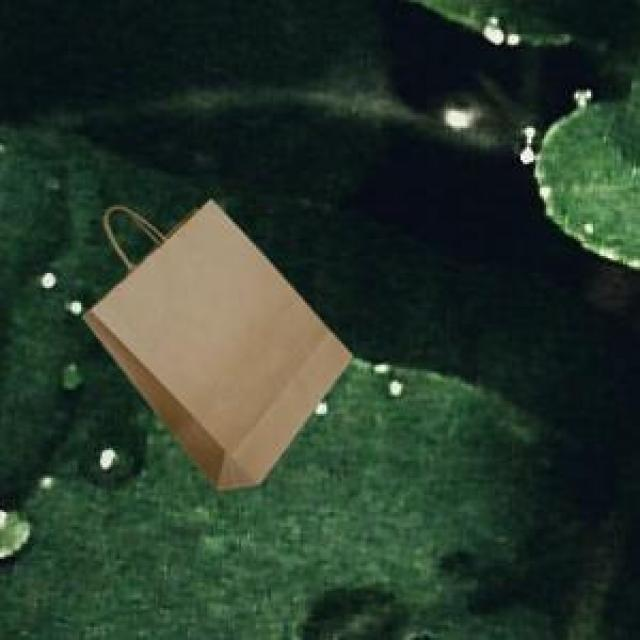Paper -Biodegradable-: (80, 198, 356, 495)
